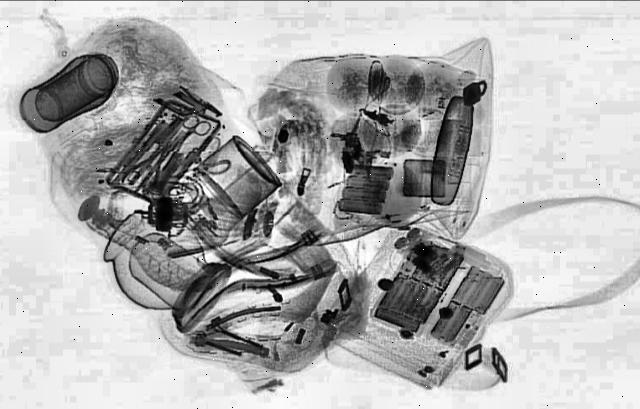Pliers: (115, 139, 188, 195)
Scissors: (158, 115, 218, 157)
